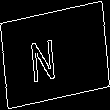N_N: (40, 27, 70, 83)
